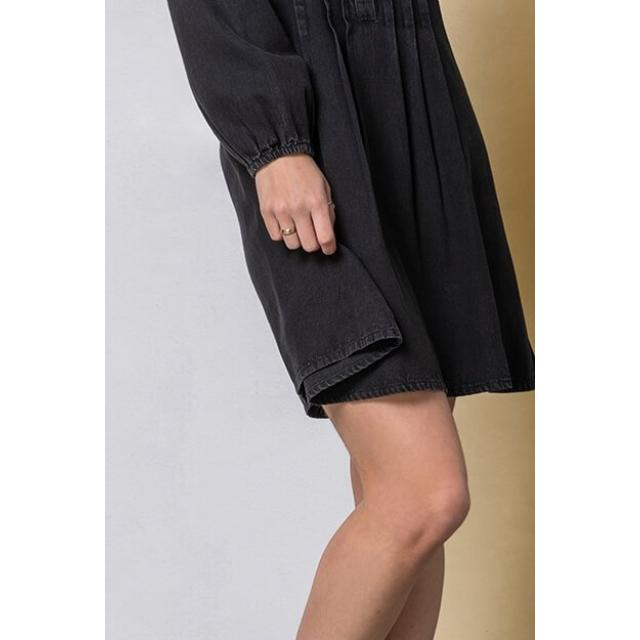denim: (206, 0, 427, 130)
